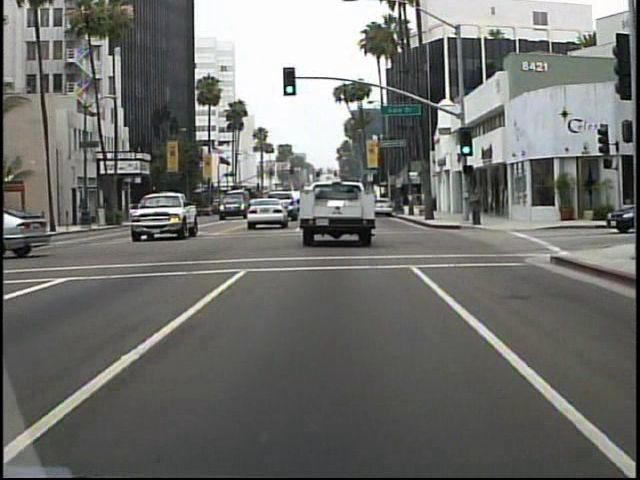person: (466, 180, 485, 229)
